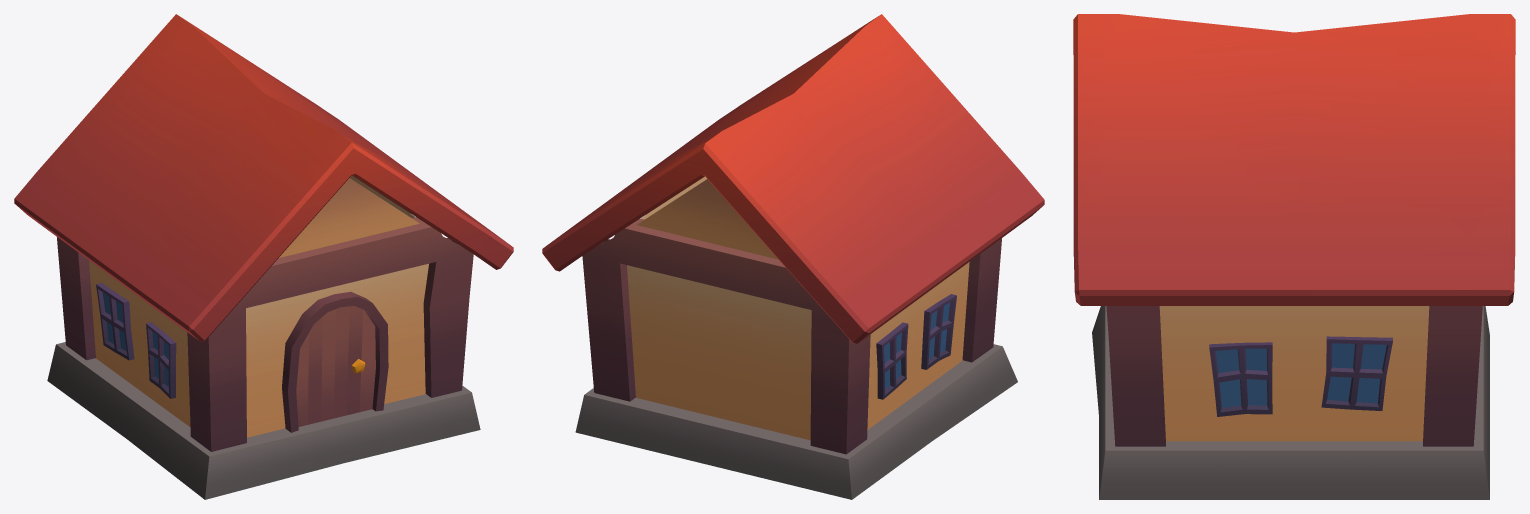
The model's file is House_Red.obj.
The picture shows the model from 3 angles, left to right: view 1: azimuth 30°, elevation 25°; view 2: azimuth 150°, elevation 25°; view 3: azimuth 270°, elevation 25°; orthographic projection. The views are drawn at different scales.
Parts seen in each view (by area): view 1: {mesh}House_Red_Sphere.004; view 2: {mesh}House_Red_Sphere.004; view 3: {mesh}House_Red_Sphere.004.
Boxes of the visible parts, left/top/right/bottom form: {mesh}House_Red_Sphere.004: left=14, top=14, right=513, bottom=499; {mesh}House_Red_Sphere.004: left=542, top=14, right=1044, bottom=499; {mesh}House_Red_Sphere.004: left=1073, top=14, right=1515, bottom=499.
Size of the model in its own units: 198 by 190 by 189.
